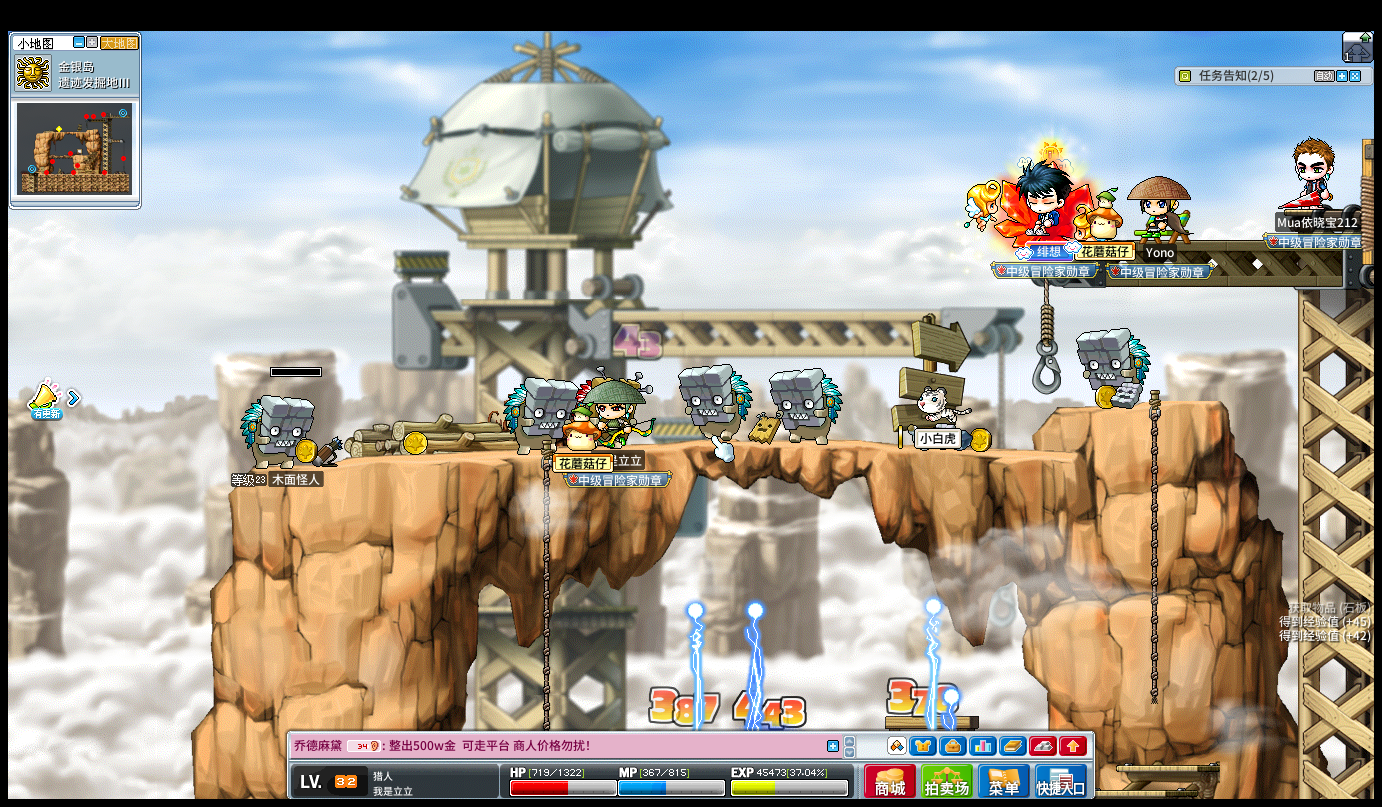floor: (197, 436, 1099, 457), (596, 437, 1087, 454), (1054, 396, 1224, 412), (1115, 763, 1217, 773)
monster: (1075, 328, 1151, 409), (679, 364, 752, 443), (769, 368, 843, 443), (239, 394, 314, 466), (503, 376, 571, 455)
rope: (539, 438, 552, 807), (1146, 381, 1160, 705), (539, 439, 551, 732), (540, 440, 552, 667), (1040, 282, 1052, 350)
